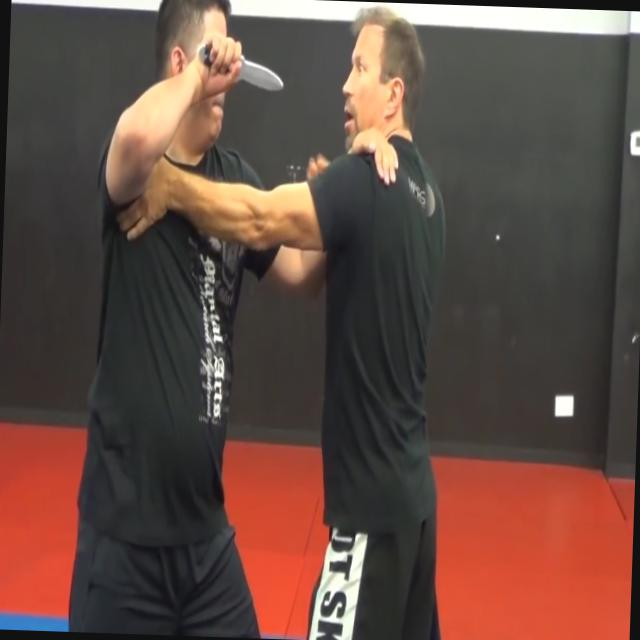knife: (192, 30, 288, 99)
